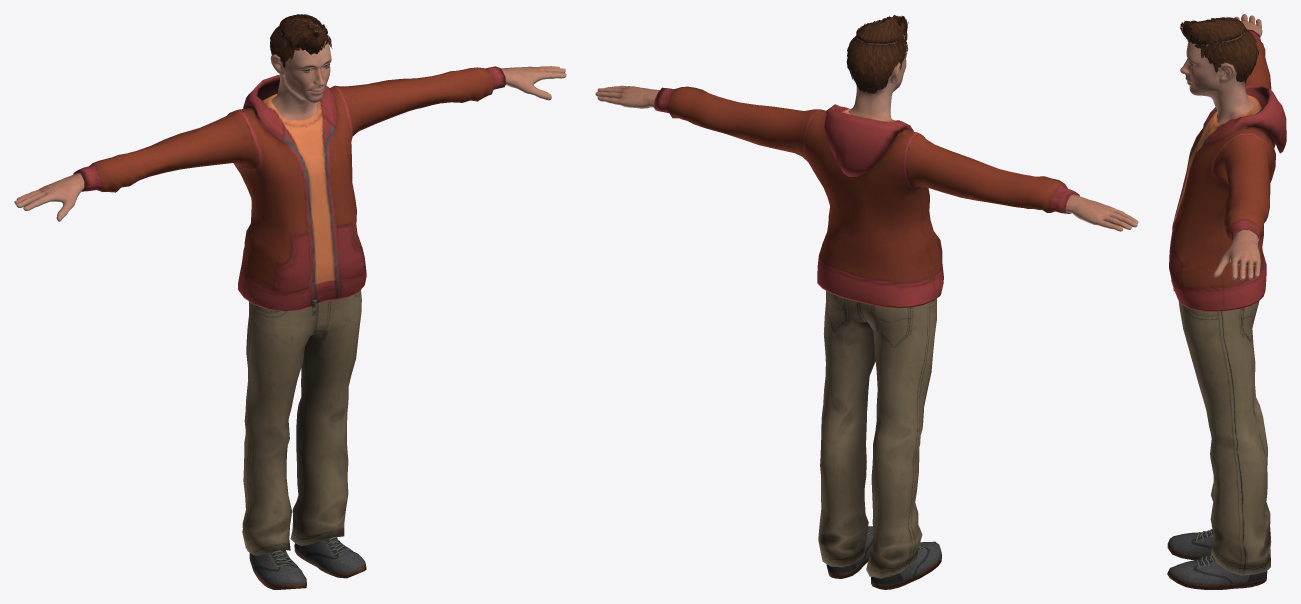
3 views of the same model, side by side, from view 1: azimuth 30°, elevation 25°; view 2: azimuth 150°, elevation 25°; view 3: azimuth 270°, elevation 25° (orthographic).
Visible parts, largest first — view 1: Tops, Bottoms, Body, Shoes, Hair; view 2: Tops, Bottoms, Body, Hair, Shoes; view 3: Tops, Bottoms, Body, Shoes, Hair.
Part boxes in pixels (box(x1,y1,x2,y2)): Tops: box(73, 66, 505, 315); Bottoms: box(242, 290, 361, 555); Body: box(14, 19, 566, 221); Shoes: box(249, 536, 366, 589); Hair: box(270, 14, 332, 67); Tops: box(653, 86, 1079, 308); Bottoms: box(818, 291, 936, 578); Body: box(595, 35, 1138, 231); Hair: box(846, 15, 908, 93); Shoes: box(826, 526, 941, 589); Tops: box(1169, 29, 1286, 311); Bottoms: box(1178, 301, 1271, 575); Body: box(1180, 14, 1262, 280); Shoes: box(1167, 529, 1267, 589); Hair: box(1180, 17, 1258, 83).
Size of the model in its own units: 187 by 180 by 35.39.
1 material, 1 textured.
